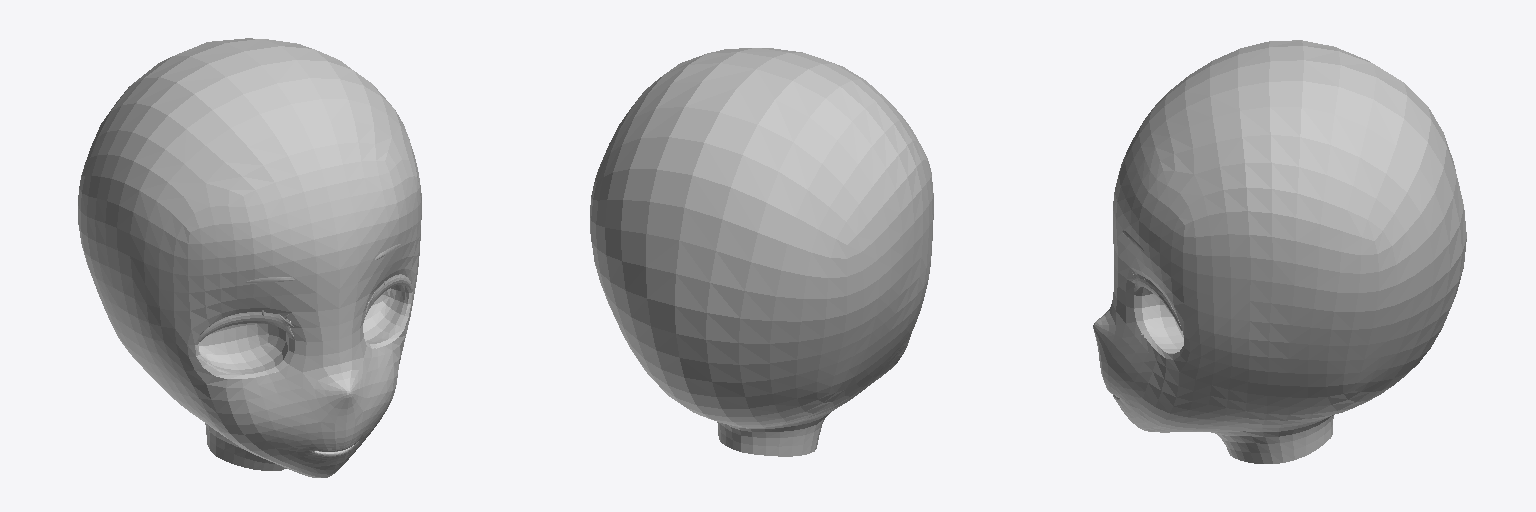
Rendered from RemOriginFixed.obj.
The picture shows the model from 3 angles: view 1: azimuth 30°, elevation 25°; view 2: azimuth 150°, elevation 25°; view 3: azimuth 270°, elevation 25°; orthographic projection.
Visible parts, largest first — view 1: Circle.010; view 2: Circle.010; view 3: Circle.010.
Boxes of the visible parts, x1,y1,x2,y2 form: Circle.010: [78, 38, 421, 477]; Circle.010: [590, 48, 933, 456]; Circle.010: [1093, 40, 1466, 463].
Size of the model in its own units: 0.9515 by 1.25 by 1.08.